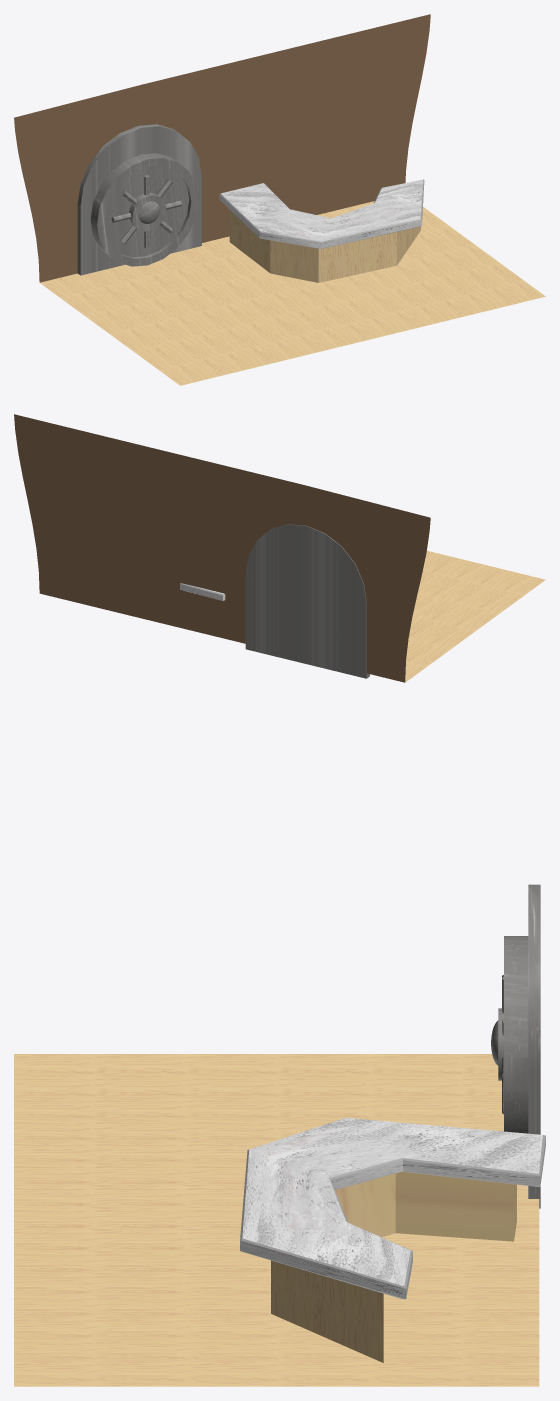
The model's file is bankinterior.fbx.
3 renders of one model, top to bottom at view 1: azimuth 30°, elevation 25°; view 2: azimuth 150°, elevation 25°; view 3: azimuth 270°, elevation 25°, orthographic. The views are drawn at different scales.
Parts seen in each view (by area): view 1: barstand:pCube2; view 2: barstand:pCube2; view 3: barstand:pCube2.
Part boxes in pixels (x1,y1,x2,y2): barstand:pCube2: (14,14,545,385); barstand:pCube2: (14,414,545,682); barstand:pCube2: (14,884,545,1386).
Bounding box in the file's own units: 9.68 × 3.96 × 5.74.
5 materials, 3 textured.
